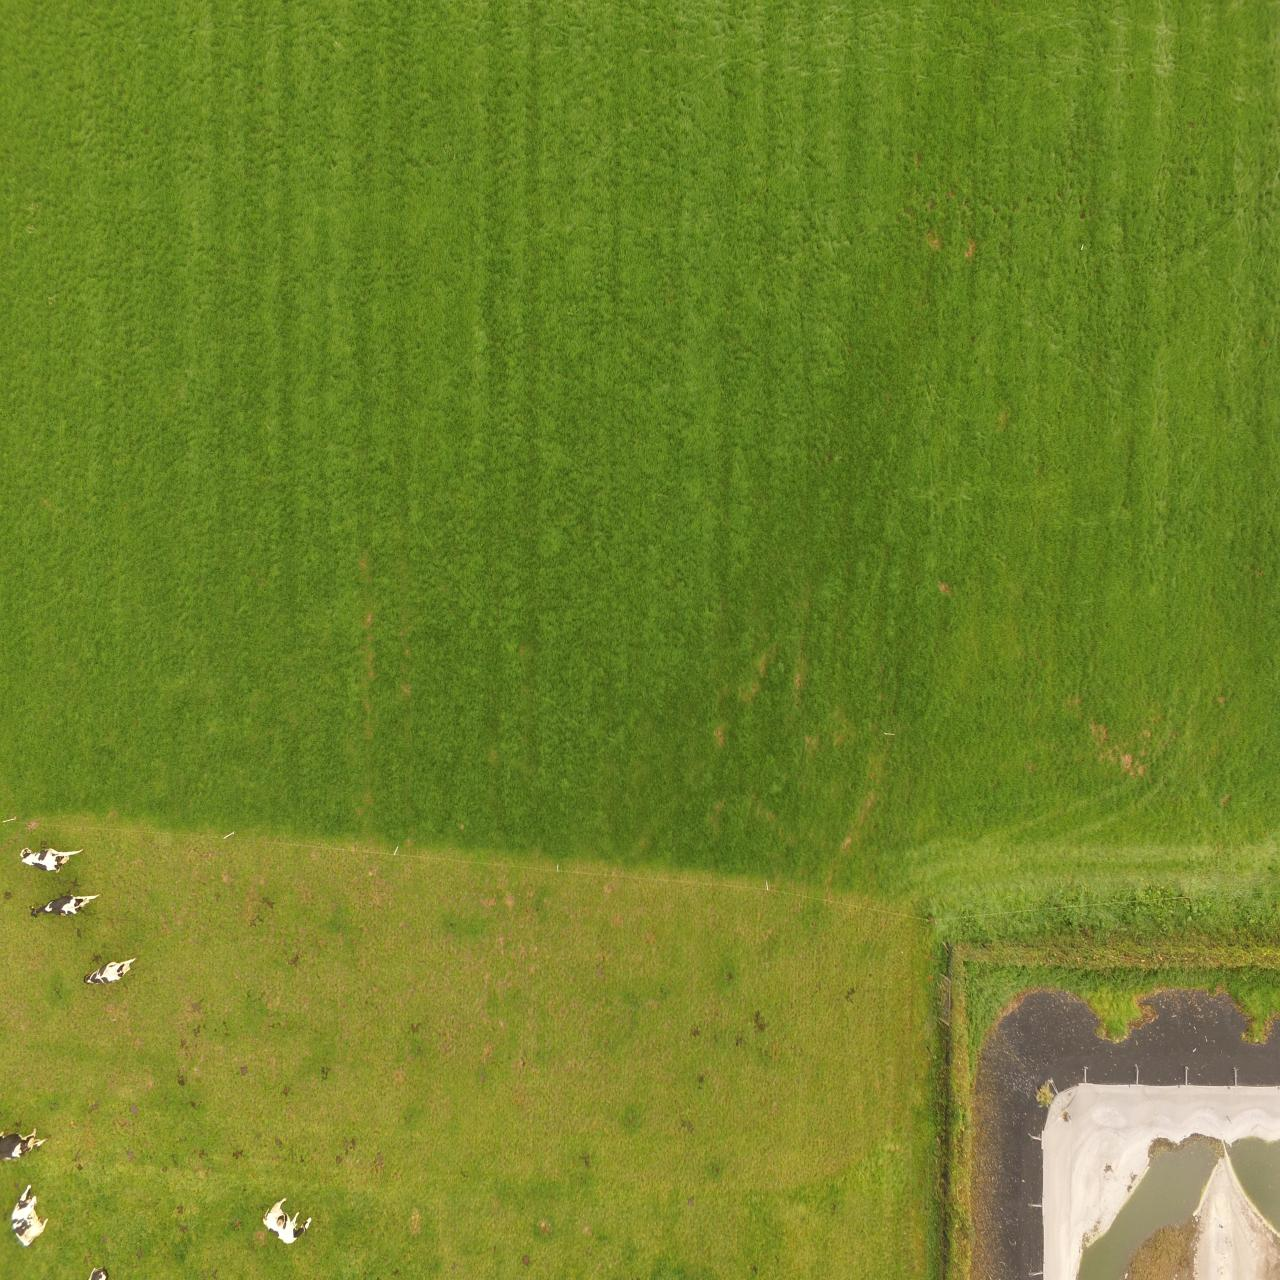cow: (1033, 1069, 1276, 1275), (26, 886, 93, 935), (77, 945, 141, 994), (259, 1192, 315, 1246), (18, 837, 84, 876), (11, 1178, 45, 1253), (0, 1126, 48, 1165)
